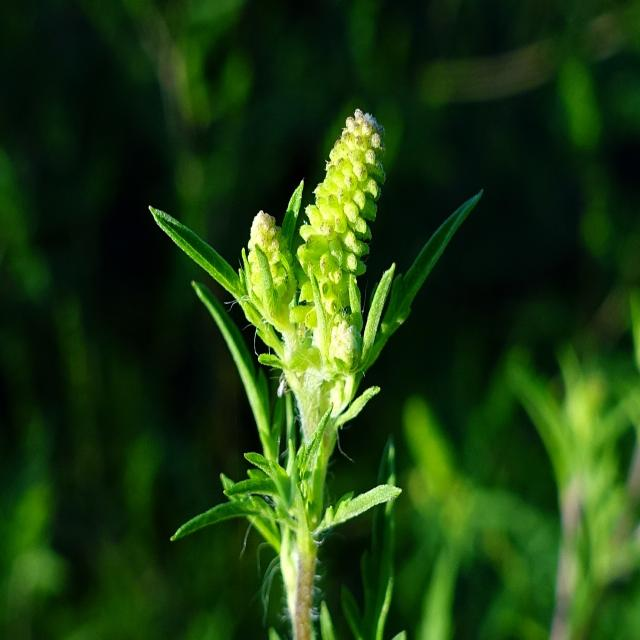ambrosia: (133, 79, 468, 640)
